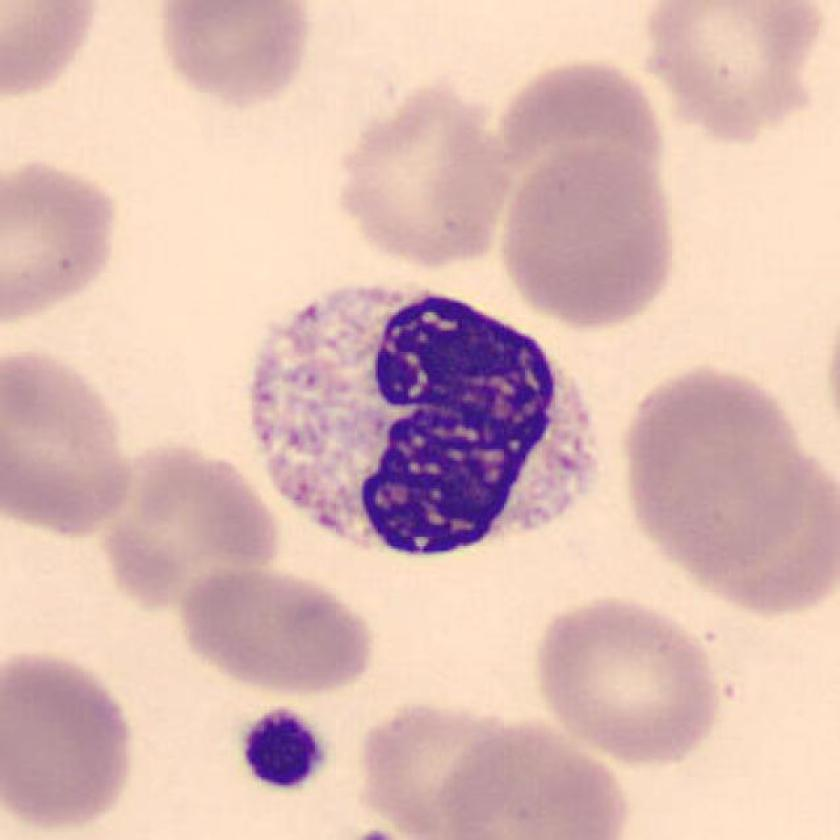neutrophil: (253, 285, 599, 558)
